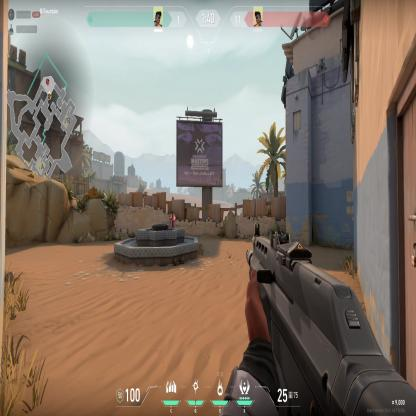enemy: (169, 210, 177, 228)
